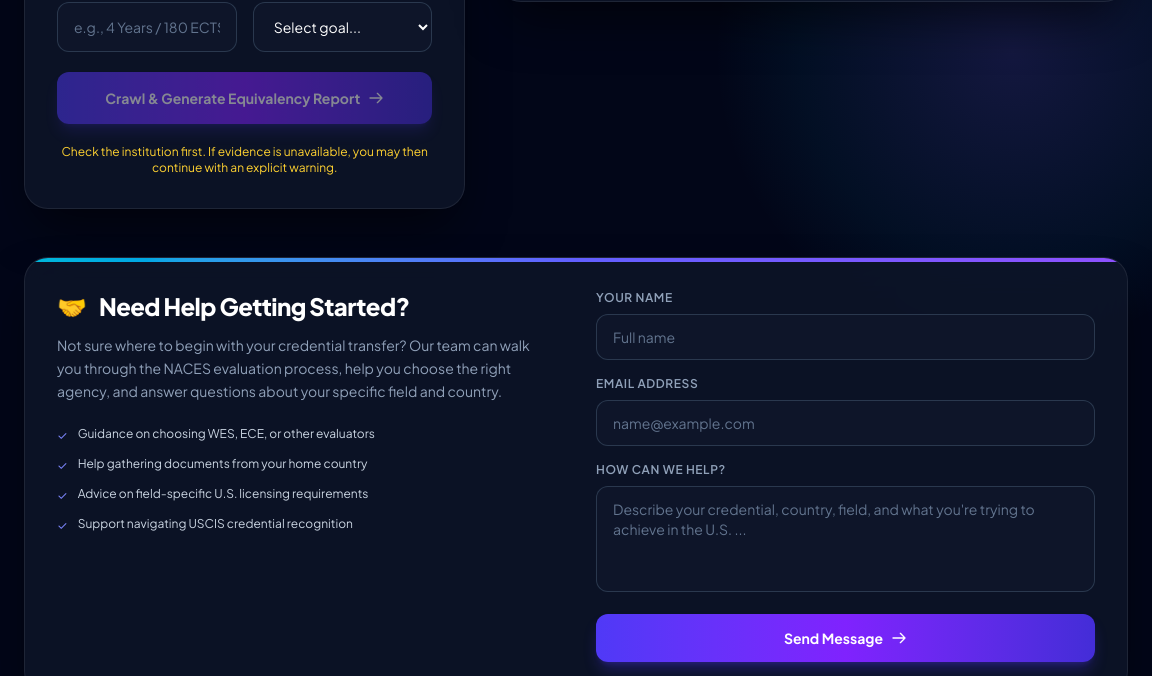
Test case: Contact form — Web3Forms submission › shows the English confirmation only after Web3Forms accepts the message
(page scrolled)
Expected: the form with test id "form-contact" is shown, [596,290,1095,662]
Type "Andrew Tester" into the field with test id "input-contact-name". click: (846, 337)
box: [596,314,1095,360]
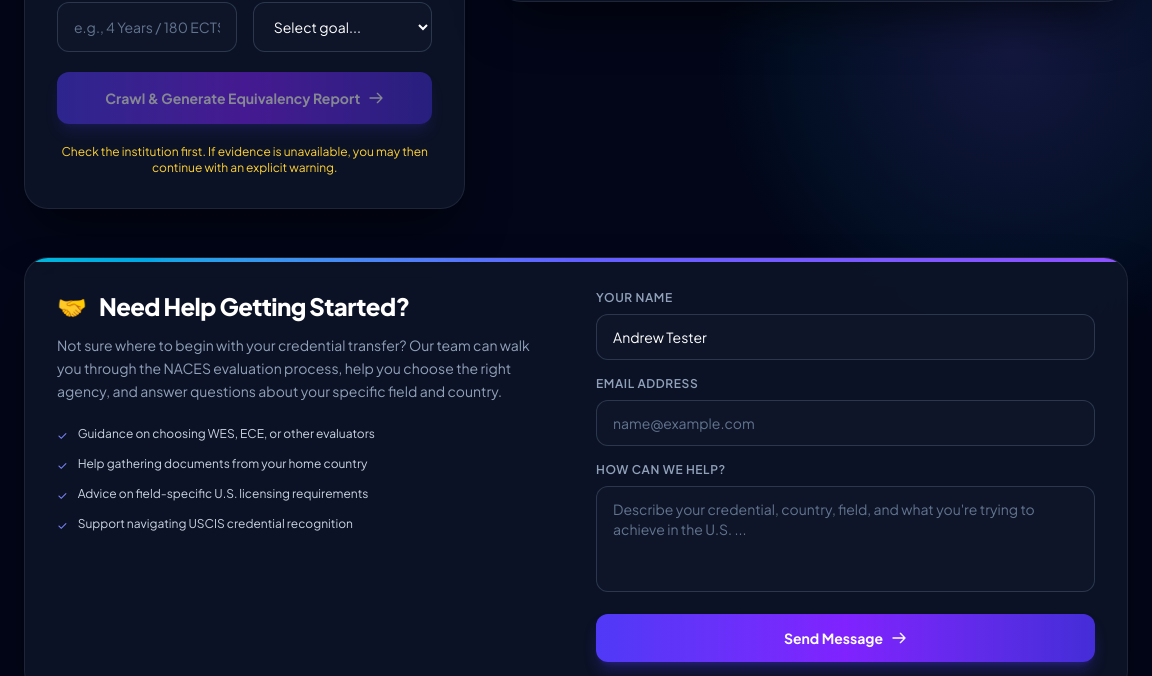
Type "andrew@example.com" into the field with test id "input-contact-email". click: (846, 423)
box: [596,400,1095,446]
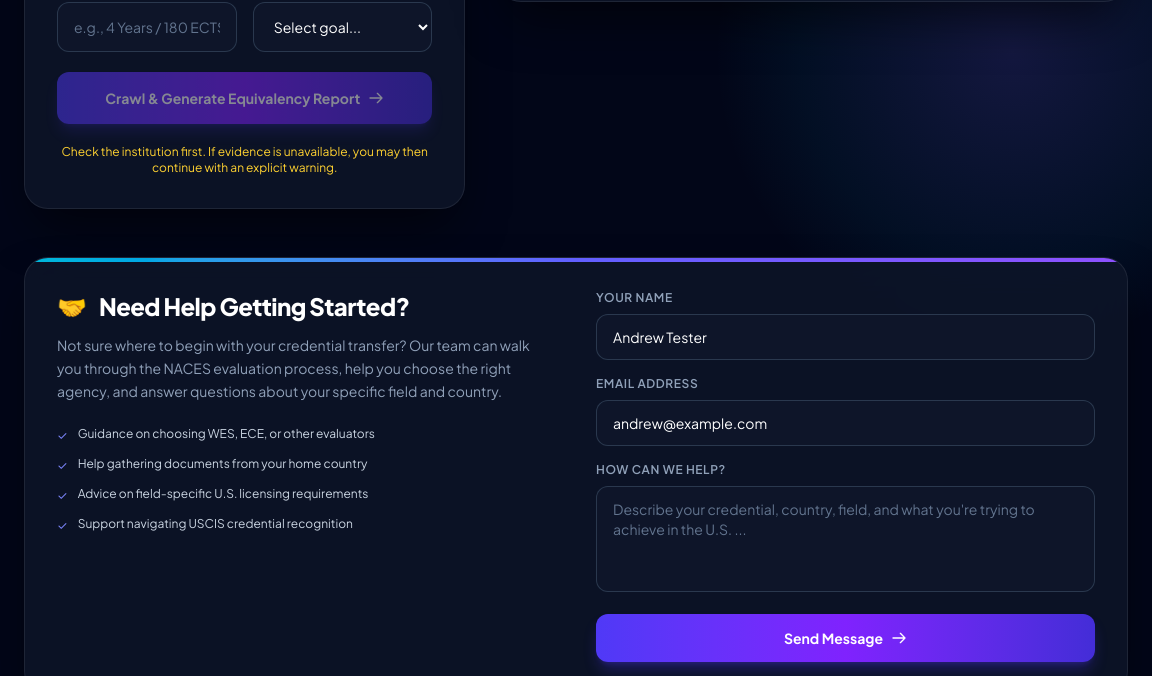
Replace the text in the text box with test id "input-contact-message" with "This is a contact form test.". click: (846, 539)
box: [596,486,1095,592]
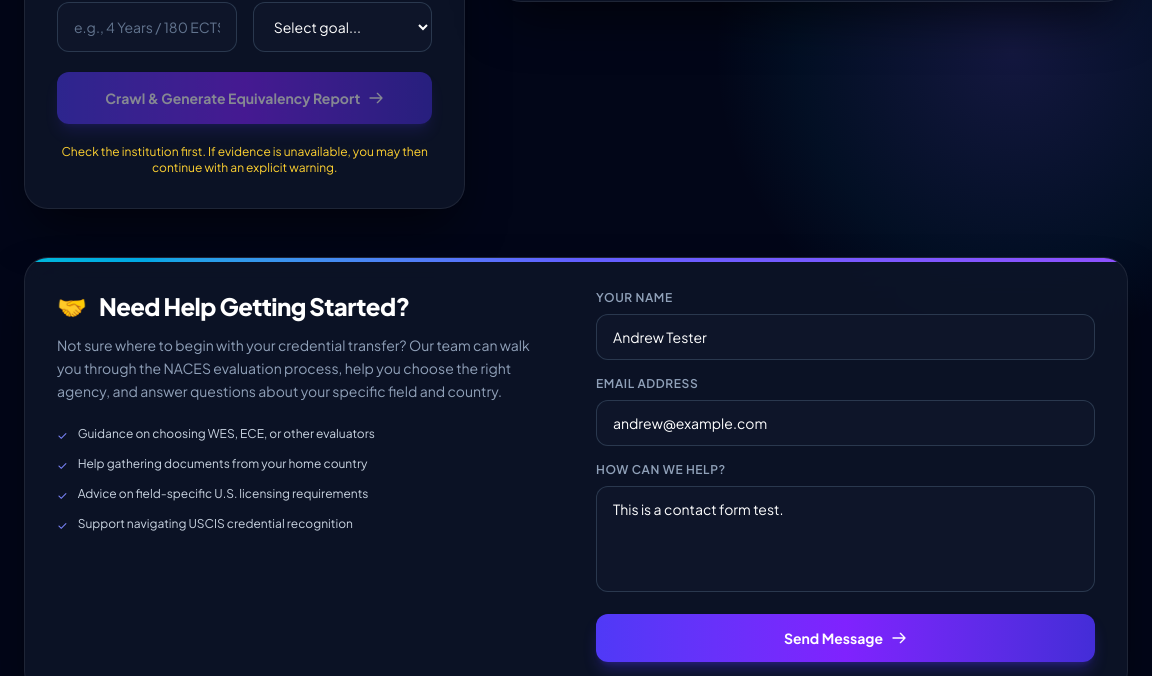
Submit the form with test id "form-contact", box [596,290,1095,662]
(page scrolled)
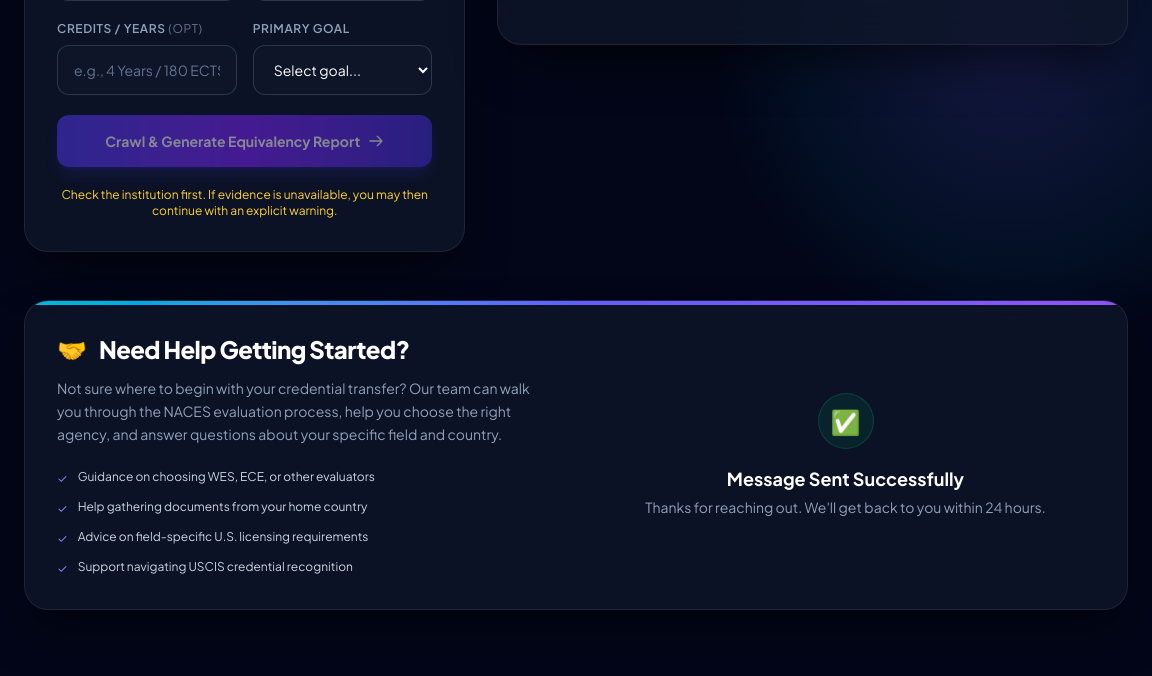
Result: the text "Message Sent Successfully" is shown at [727,465,964,493]
